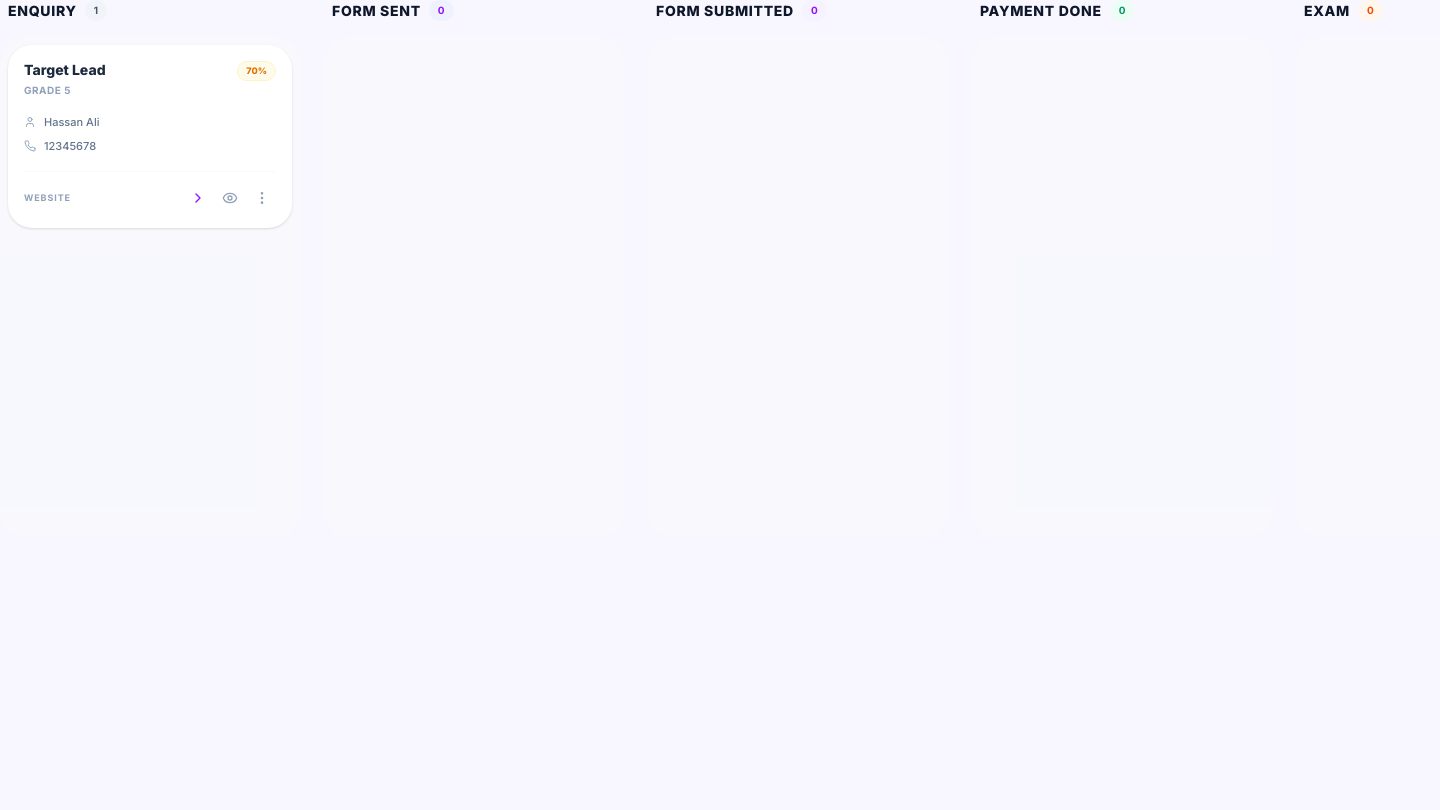
Test case: AdmissionsPipeline › closes the LeadProfile dialog when its Close button is clicked
The image size is (1440, 810).
Click the button named "View profile" at (230, 198), box [216,184,244,212]
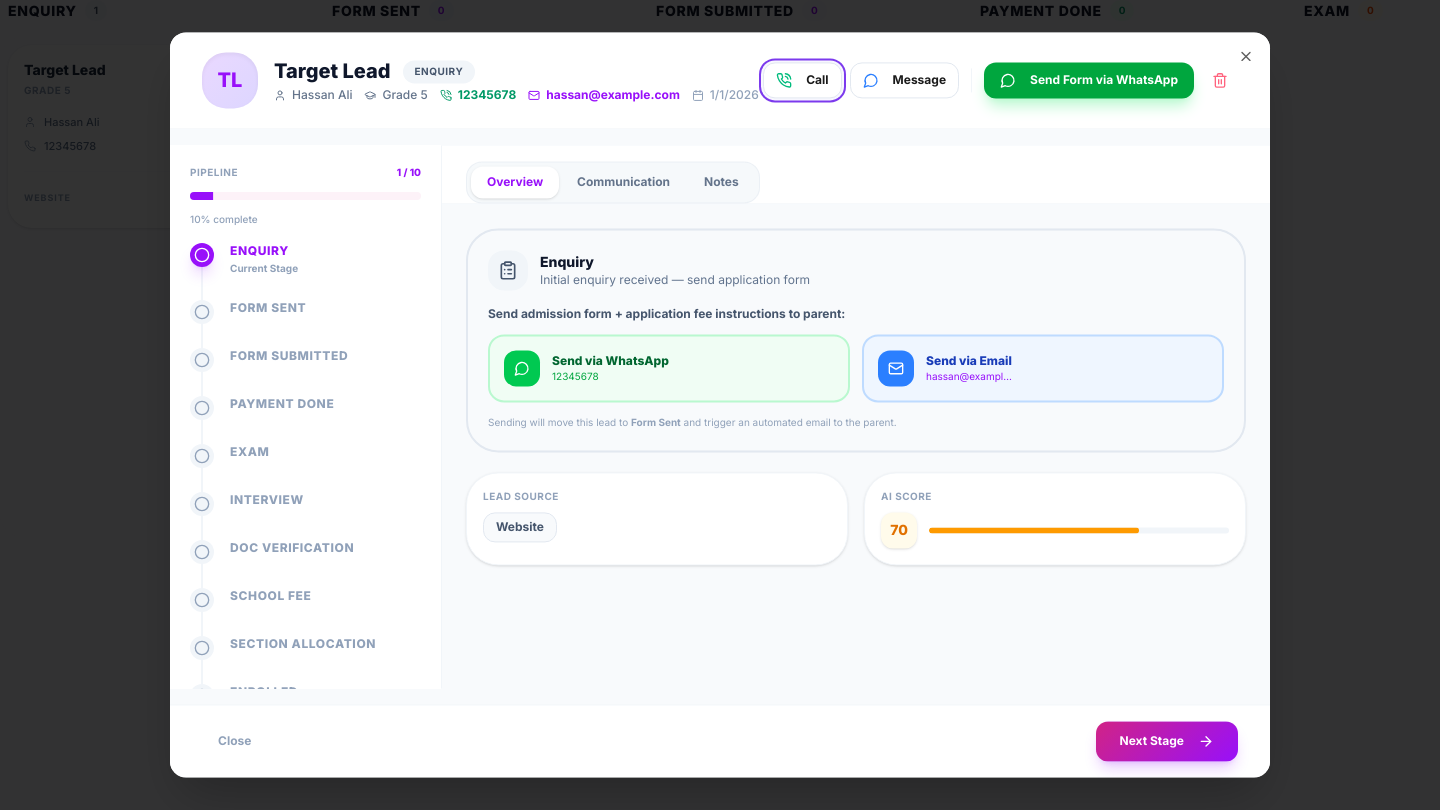
# Footer "Close" button comes before the dialog's sr-only X-button label.
Click the button "Close" at (235, 742), box [202,722,267,762]
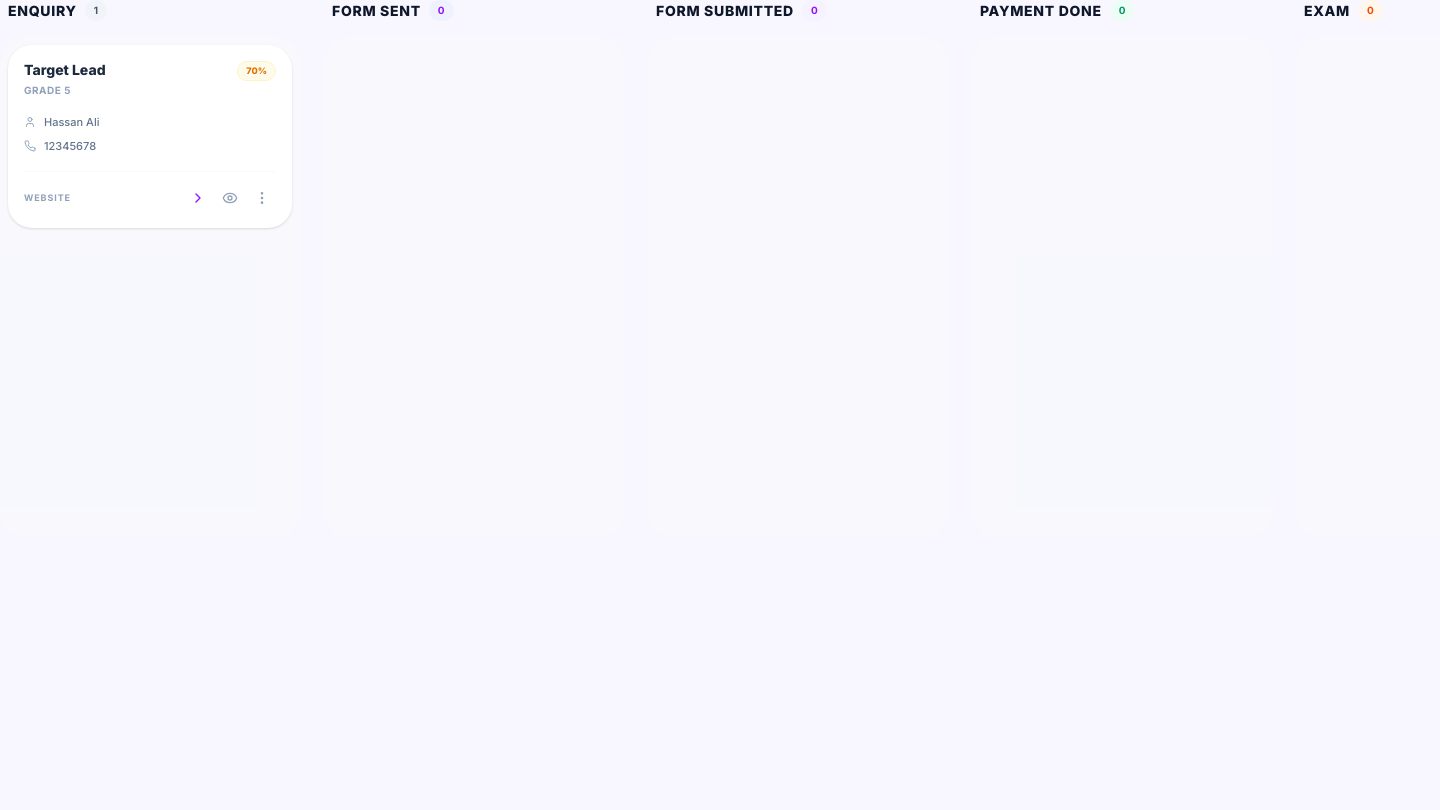
expect the number of headings "Target Lead" is 1: met, box [24,61,106,78]
